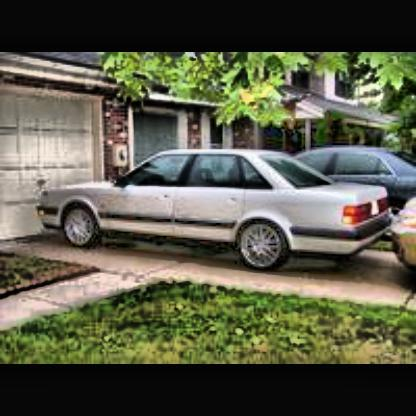Audi V8 Sedan 1994: (32, 149, 404, 280)
